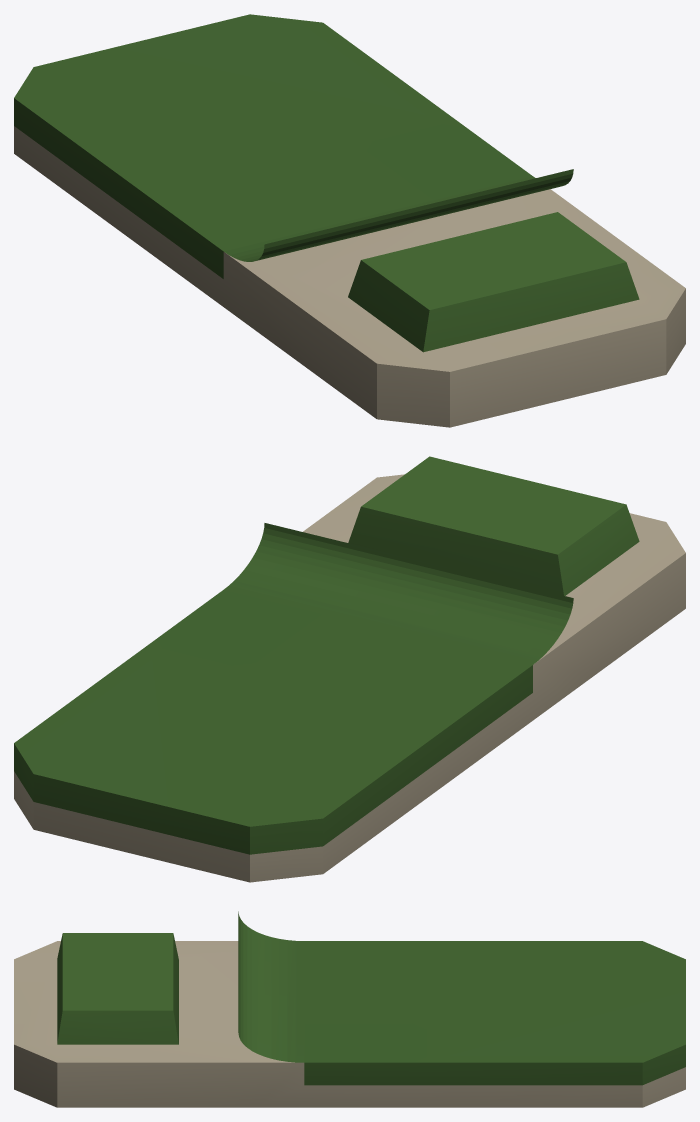
Rendered from bedroll.glb.
The picture shows the model from 3 angles, top to bottom: view 1: azimuth 30°, elevation 25°; view 2: azimuth 150°, elevation 25°; view 3: azimuth 270°, elevation 25°; orthographic projection. The views are drawn at different scales.
Parts seen in each view (by area): view 1: bedroll; view 2: bedroll; view 3: bedroll.
Boxes of the visible parts, box(x1,y1,x2,y2) form: bedroll: box(14, 14, 685, 427); bedroll: box(14, 456, 685, 882); bedroll: box(14, 911, 685, 1107).
Size of the model in its own units: 0.6857 by 0.1971 by 1.6.
